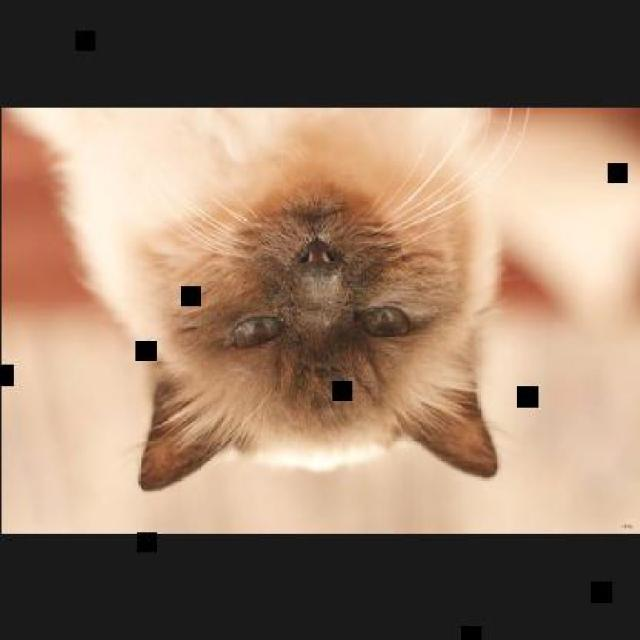unauthorized: (3, 106, 532, 491)
